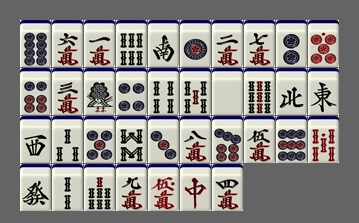0m: (148, 164, 179, 211)
0p: (308, 20, 339, 67)
0s: (308, 116, 339, 163)
1m: (84, 20, 115, 67)
1p: (180, 20, 211, 67)
1s: (84, 68, 115, 115)
1z: (308, 68, 339, 115)
2m: (212, 20, 243, 67)
2p: (276, 20, 307, 67)
2s: (52, 164, 83, 211)
2z: (148, 20, 179, 67)
3m: (52, 68, 83, 115)
3p: (148, 116, 179, 163)
3s: (52, 116, 83, 163)
3z: (20, 116, 51, 163)
4m: (212, 164, 243, 211)
4p: (116, 68, 147, 115)
4s: (148, 68, 179, 115)
4z: (276, 68, 307, 115)
5m: (244, 116, 275, 163)
5p: (84, 116, 115, 163)
5s: (180, 68, 211, 115)
5z: (212, 68, 243, 115)
6m: (52, 20, 83, 67)
6p: (20, 68, 51, 115)
6s: (116, 20, 147, 67)
6z: (20, 164, 51, 211)
7m: (244, 20, 275, 67)
7p: (212, 116, 243, 163)
7s: (84, 164, 115, 211)
7z: (180, 164, 211, 211)
8m: (180, 116, 211, 163)
8p: (20, 20, 51, 67)
8s: (116, 116, 147, 163)
9m: (116, 164, 147, 211)
9p: (276, 116, 307, 163)
9s: (244, 68, 275, 115)
